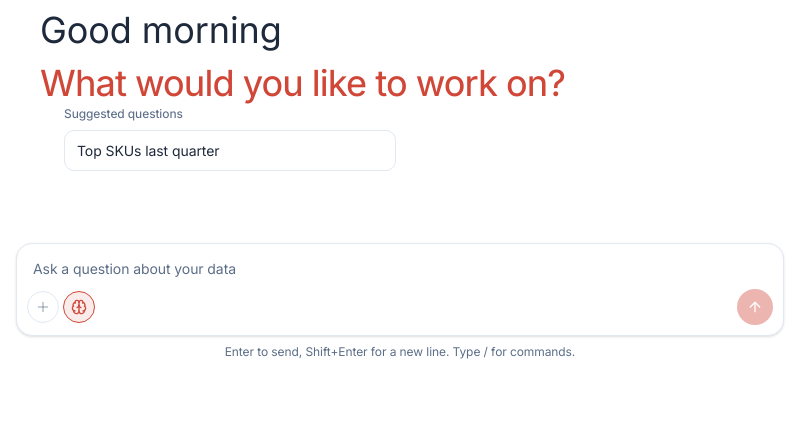
it: preserves the draft across Smart and manual selection and restores the last accessible agent
The width and height of the screenshot is (801, 431).
Type "Keep this draft" into the text box named "Message Nova" at (400, 267), box [17,244,783,289]
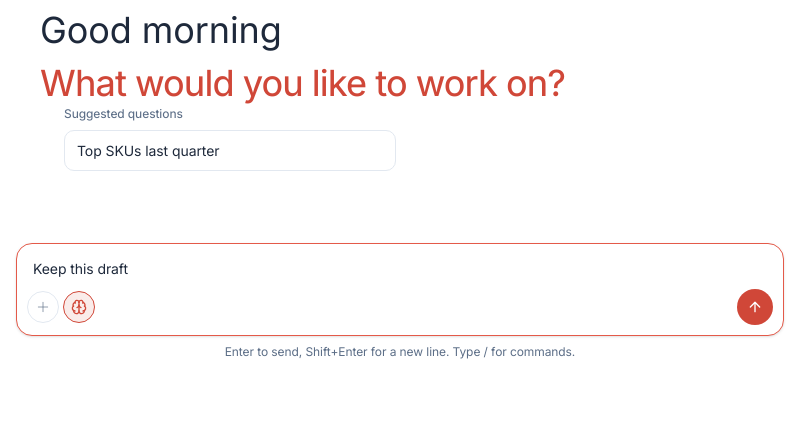
Click the button named "Smart mode" at (79, 307), box [63,291,95,323]
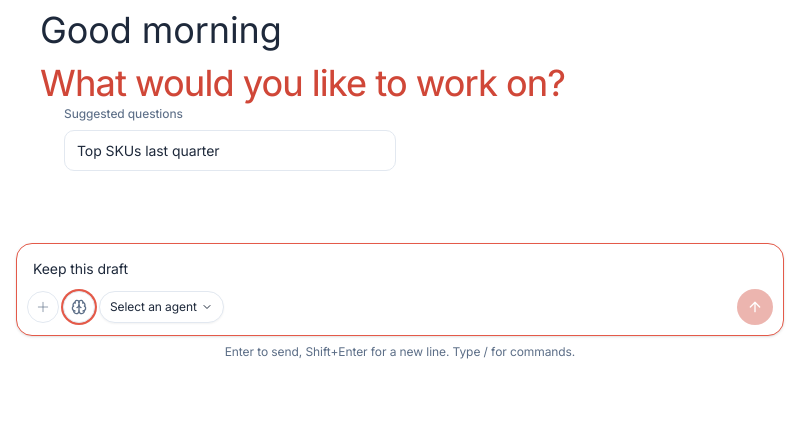
Now the button named "Send" is disabled, box [737,289,773,325]
Click the button "Select an agent" at (161, 307), box [99,291,224,323]
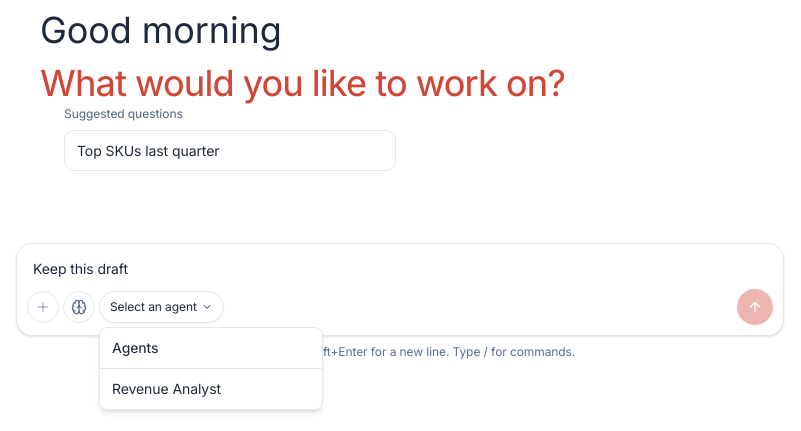
Click the menu item "Revenue Analyst" at (166, 388), box [112,380,221,397]
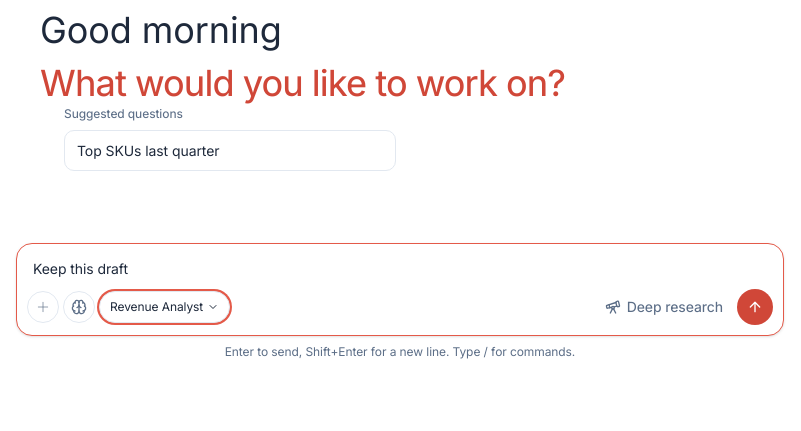
Now the button named "Send" is enabled, box [737,289,773,325]
Click the button named "Smart mode" at (79, 307), box [63,291,95,323]
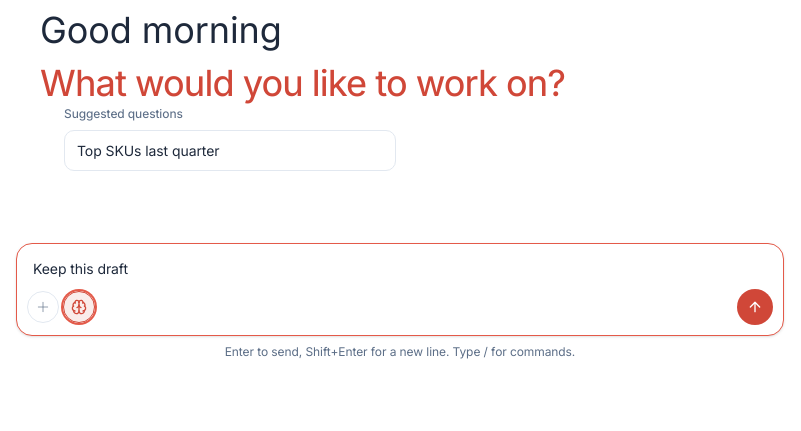
Now the button named "Smart mode" is pressed
Click the button named "Smart mode" at (79, 307), box [63,291,95,323]
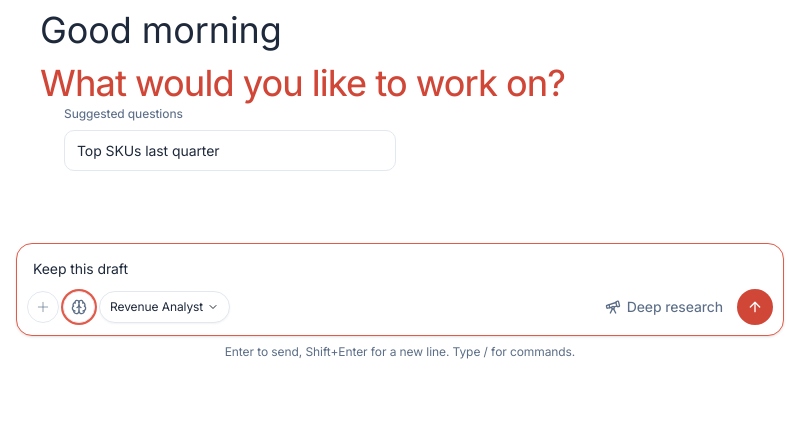
Now the button "Revenue Analyst" is shown, box [99,291,230,323]
